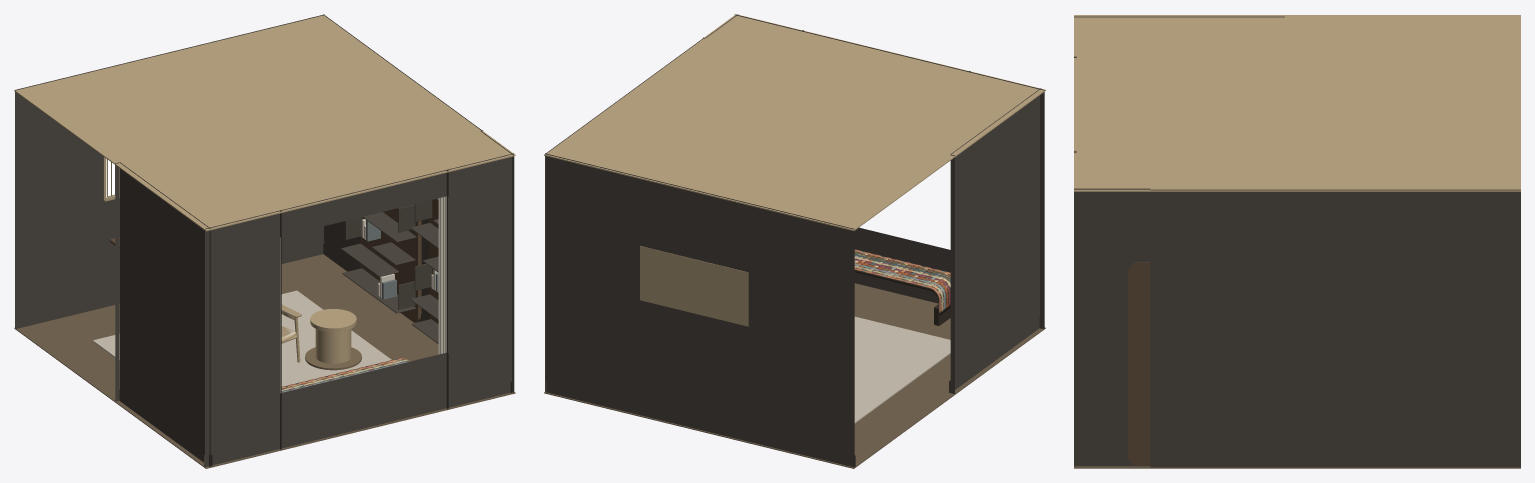
File: formal-2.glb
3 renders of one model, left to right at view 1: azimuth 30°, elevation 25°; view 2: azimuth 150°, elevation 25°; view 3: azimuth 270°, elevation 25°, orthographic. The views are drawn at different scales.
Visible parts, largest first — view 1: DESIGN | formal removable wall finish, DESIGN | formal ceiling finish, DESIGN | formal floor finish, DESIGN | Required Blabla bookcase 2, DESIGN | Formal ground, DESIGN | Required Blabla bookcase 1, DESIGN | Formal soft window edge.001, DESIGN | Tea side table pedestal, DESIGN | Tea side table top, DESIGN | Required Brera anniversary window bench, DESIGN | Tea side table base, DESIGN | Window reading chair; view 2: DESIGN | formal removable wall finish, DESIGN | formal ceiling finish, DESIGN | formal floor finish, DESIGN | Quiet artwork frame, DESIGN | Formal ground, DESIGN | Required Brera anniversary window bench; view 3: DESIGN | formal removable wall finish, DESIGN | formal ceiling finish, DESIGN | Required Blabla bookcase 1, DESIGN | formal floor finish.
Part boxes in pixels (<box>): DESIGN | formal removable wall finish: <box>15,14,514,466</box>; DESIGN | formal ceiling finish: <box>14,15,515,231</box>; DESIGN | formal floor finish: <box>14,254,515,468</box>; DESIGN | Required Blabla bookcase 2: <box>341,204,421,322</box>; DESIGN | Formal ground: <box>92,290,391,386</box>; DESIGN | Required Blabla bookcase 1: <box>410,198,438,343</box>; DESIGN | Formal soft window edge.001: <box>438,196,446,354</box>; DESIGN | Tea side table pedestal: <box>315,329,351,363</box>; DESIGN | Tea side table top: <box>310,309,356,332</box>; DESIGN | Required Brera anniversary window bench: <box>281,357,409,392</box>; DESIGN | Tea side table base: <box>305,347,361,370</box>; DESIGN | Window reading chair: <box>281,304,301,362</box>; DESIGN | formal removable wall finish: <box>545,14,1044,467</box>; DESIGN | formal ceiling finish: <box>544,14,1045,231</box>; DESIGN | formal floor finish: <box>544,283,1045,468</box>; DESIGN | Quiet artwork frame: <box>640,246,748,326</box>; DESIGN | Formal ground: <box>854,316,950,423</box>; DESIGN | Required Brera anniversary window bench: <box>854,249,950,325</box>; DESIGN | formal removable wall finish: <box>1074,16,1520,467</box>; DESIGN | formal ceiling finish: <box>1074,15,1520,191</box>; DESIGN | Required Blabla bookcase 1: <box>1128,262,1150,465</box>; DESIGN | formal floor finish: <box>1074,466,1520,468</box>.
Size of the model in its own units: 3.71 by 2.74 by 3.98.
